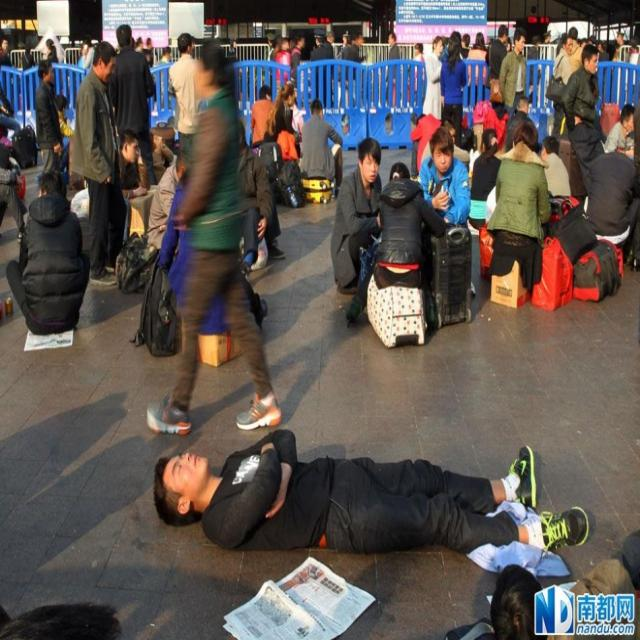10-: (0, 9, 638, 636)
down: (145, 421, 595, 585)
